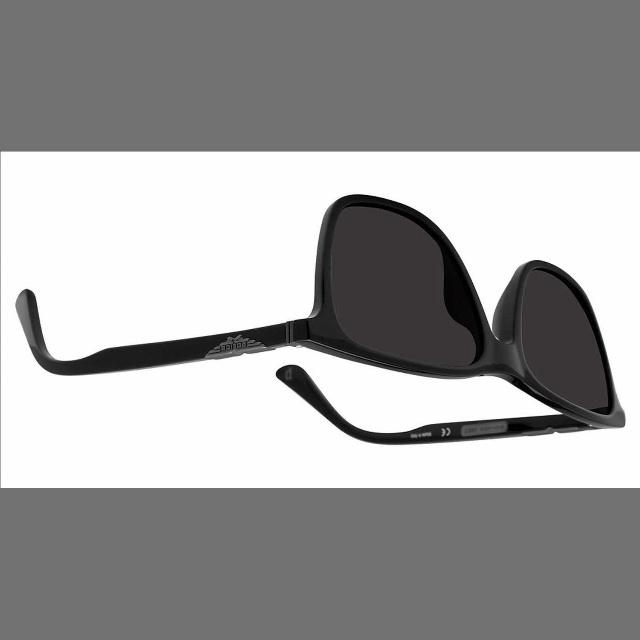Sunglasses: (0, 183, 624, 483)
